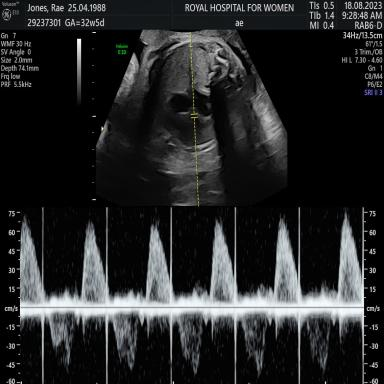Ultrasound-Waves: (27, 206, 362, 384)
